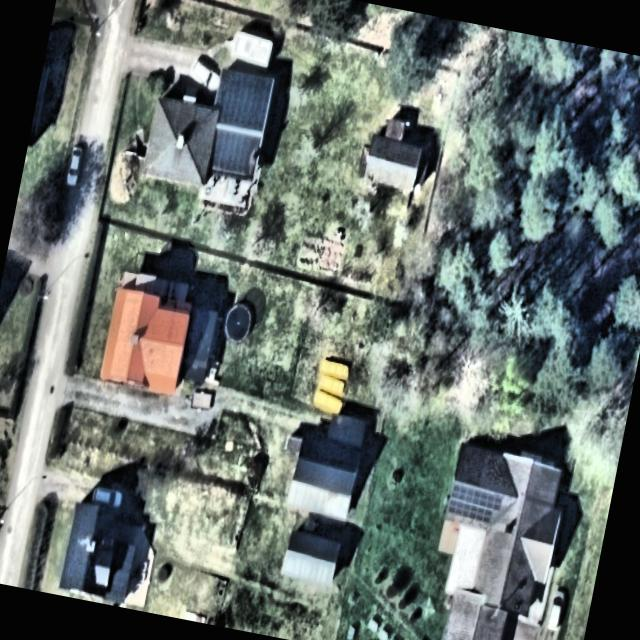roof_pv: (215, 71, 271, 132), (446, 482, 504, 530), (210, 135, 257, 177)
